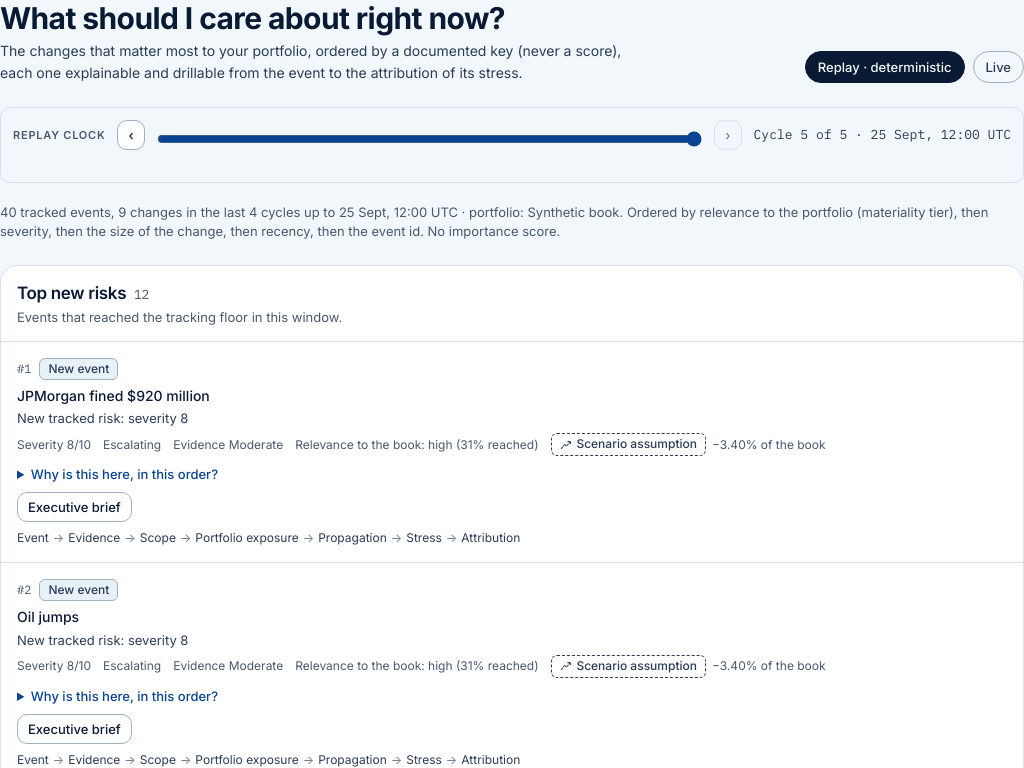
TodayPage › labels a stress figure as a scenario and opens the structured reasons for a card
The width and height of the screenshot is (1024, 768).
Check: the 1st text "Scenario assumption" is shown, box [551, 433, 706, 456]
Click the heading "Why is this here, in this order?" below "JPMorgan fined $920 million" at (118, 474), box [17, 464, 218, 484]
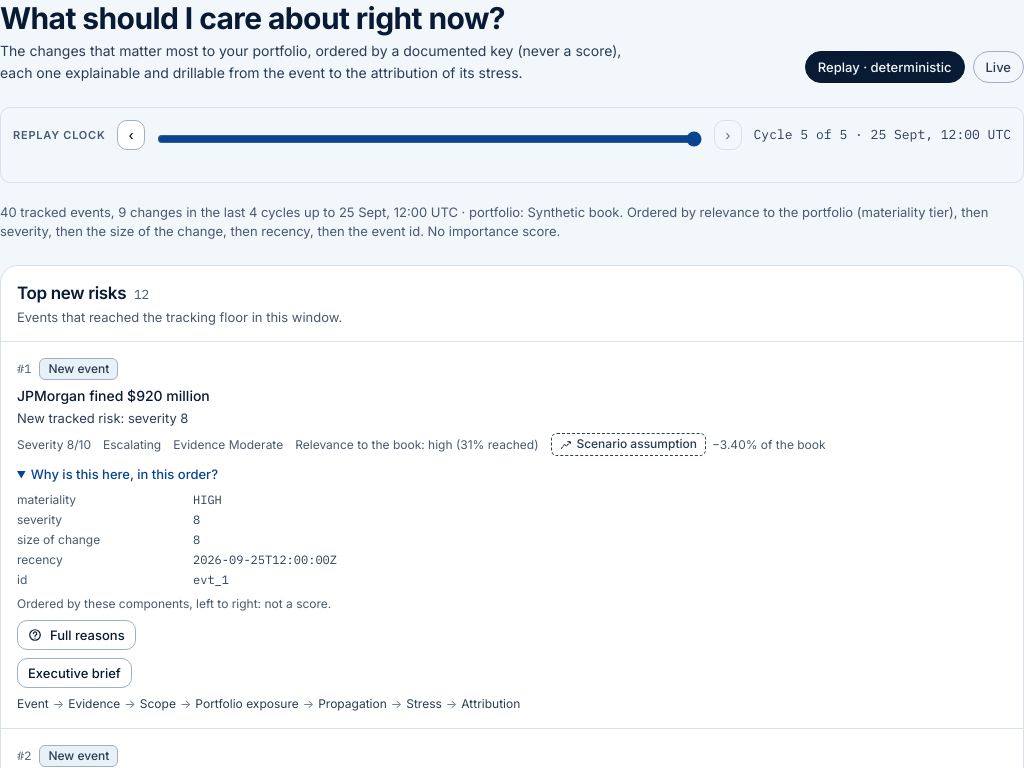
Click the button "Full reasons" at (76, 635), box [17, 620, 136, 650]
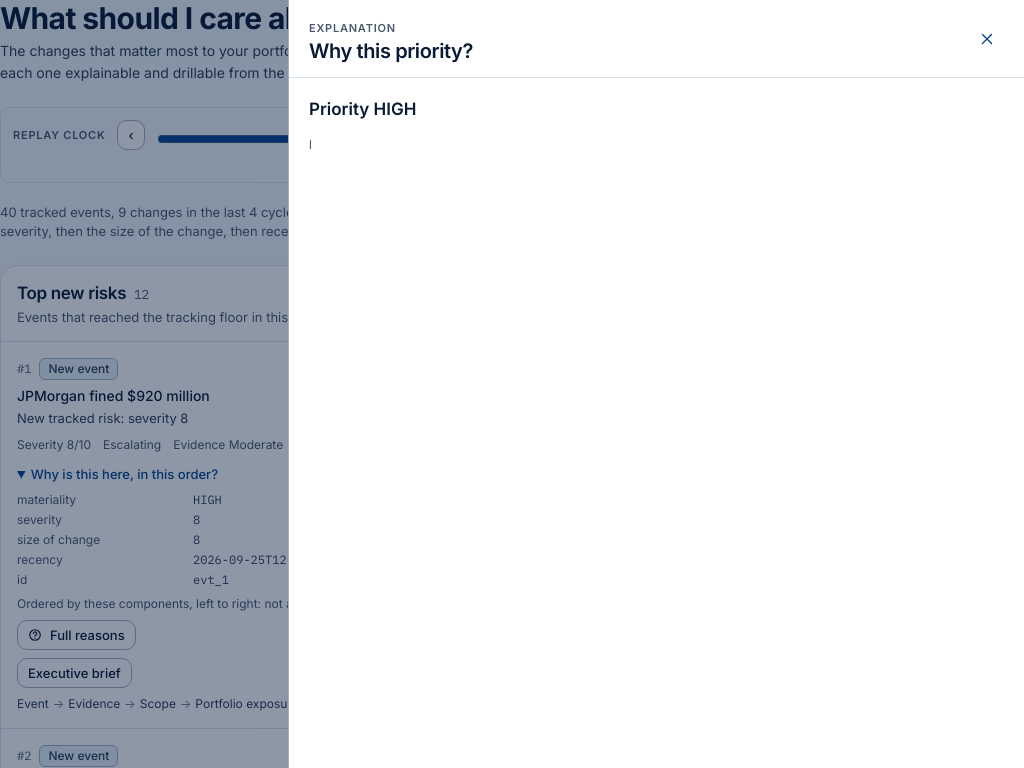
Check: the dialog is shown
